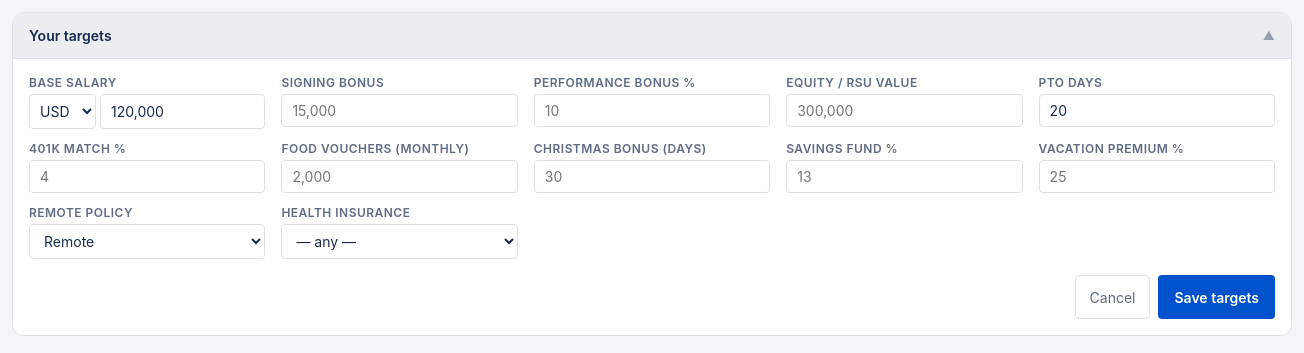
Test: ExpectationsPanel › collapsed state — with expectations › shows a summary of expectations when collapsed
Click the text "Your targets". click: {"x": 70, "y": 36}
box: [29,27,112,44]
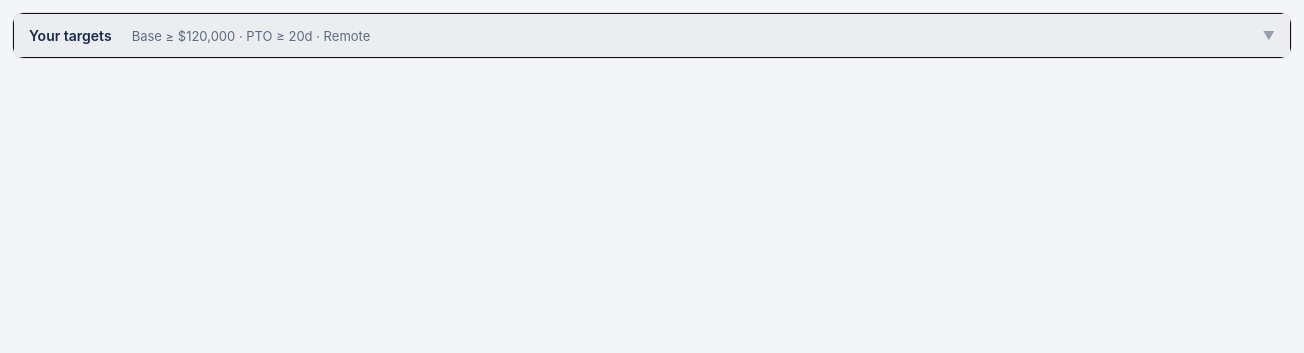
Check: the text "Base ≥ $120,000 · PTO ≥ 20d · Remote" is shown, box [132,28,370,44]
